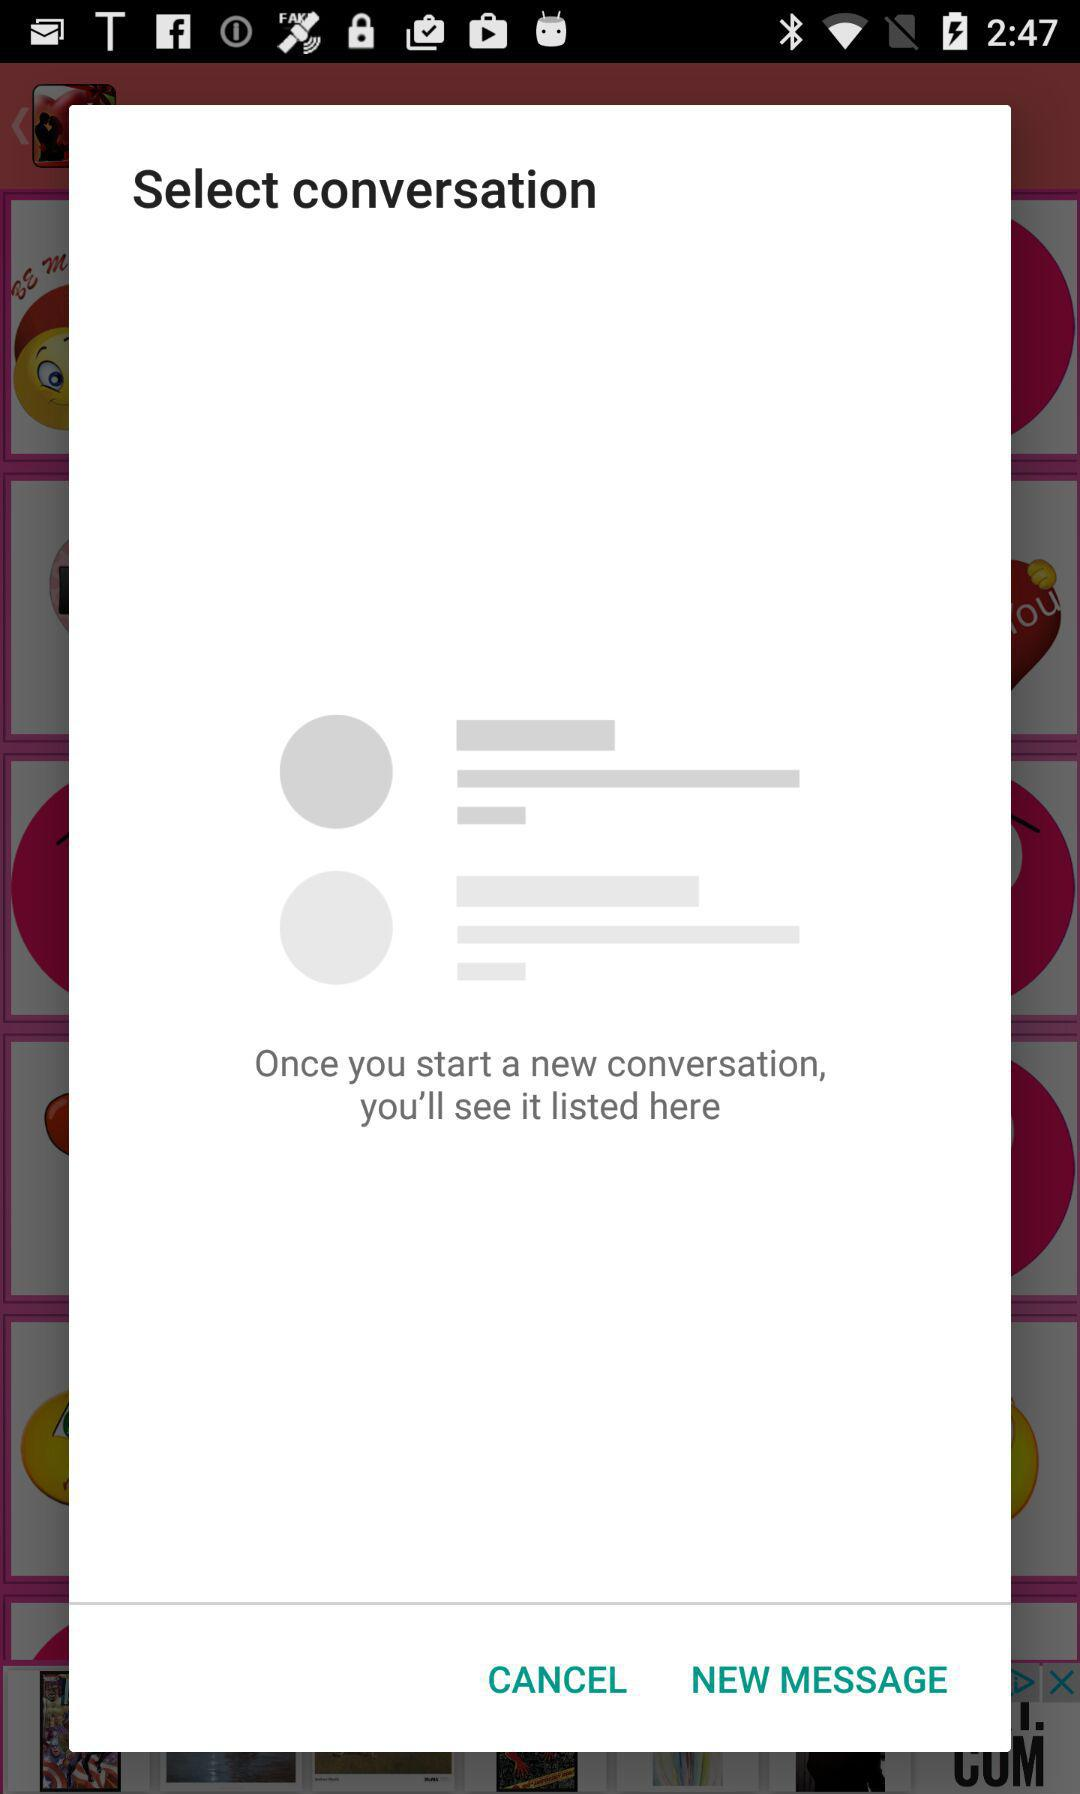Image: (281, 716, 799, 983)
Modal: (70, 106, 1011, 1752)
Text: (258, 1049, 825, 1130), (135, 169, 597, 210), (693, 1666, 947, 1693), (488, 1665, 626, 1694)
UpperTaskBar: (1, 1, 1080, 64)
